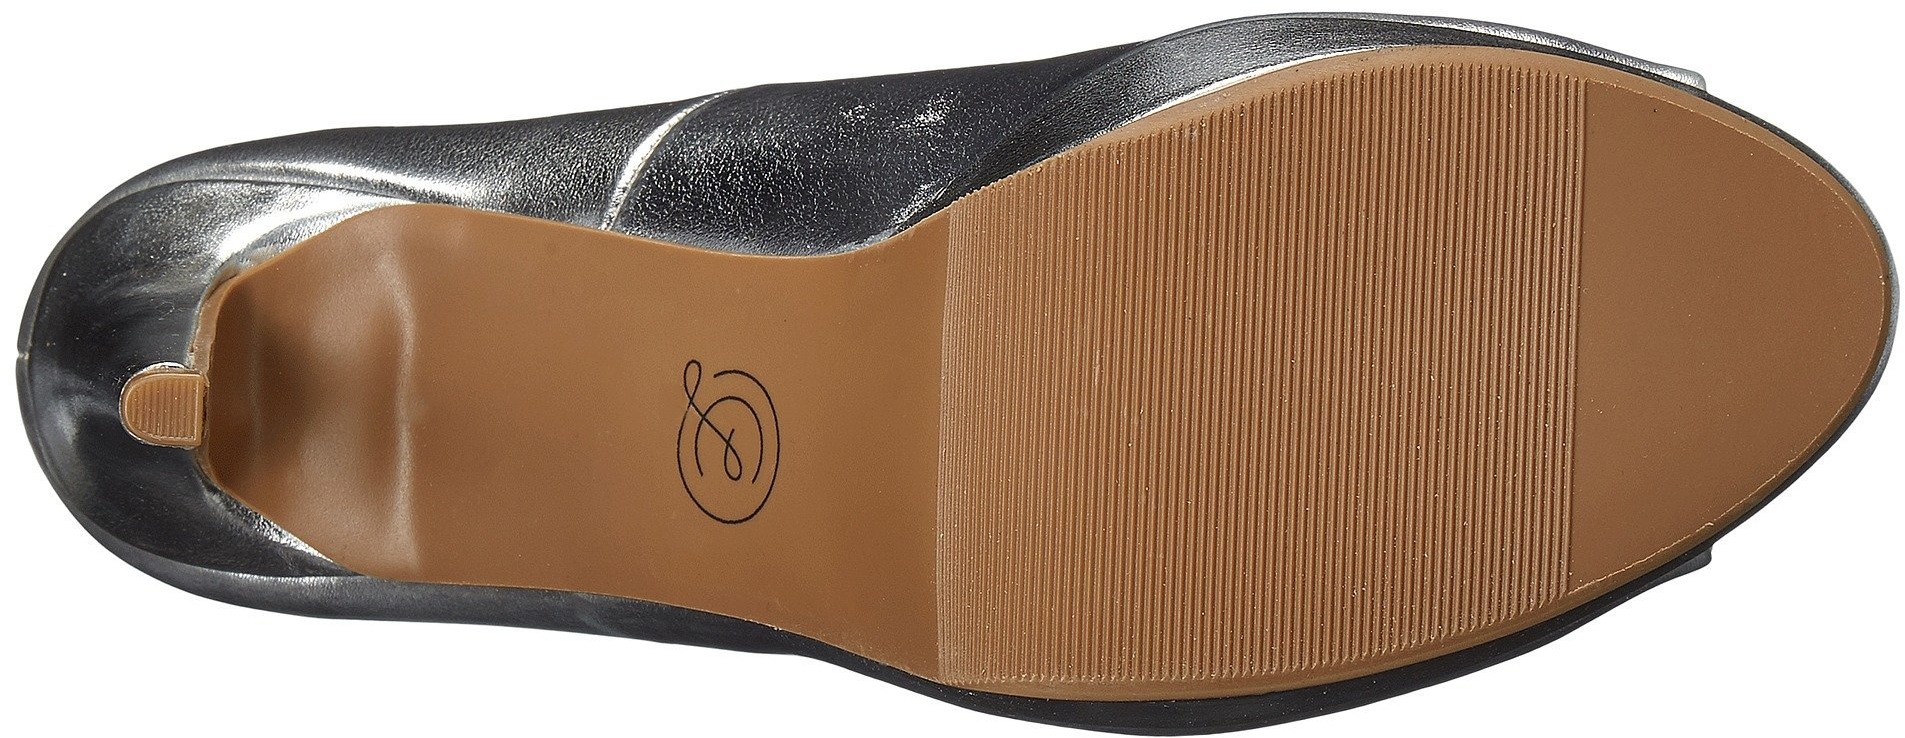other: (1219, 374, 1479, 620), (950, 447, 1198, 683), (1197, 117, 1428, 367), (1592, 190, 1824, 426), (959, 208, 1191, 436), (1432, 91, 1573, 246), (142, 374, 199, 439)
